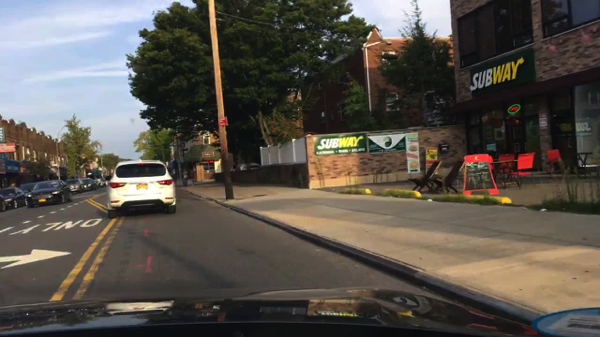car: (106, 160, 177, 220), (30, 180, 72, 207), (0, 188, 28, 213), (229, 161, 261, 171), (21, 182, 37, 199), (66, 180, 85, 192), (81, 179, 95, 190), (94, 179, 107, 187)
traffic sign: (217, 119, 228, 126), (96, 170, 101, 177)
